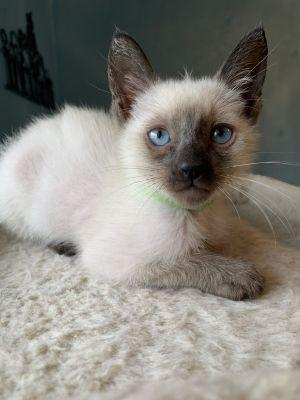siamese: (93, 16, 284, 216)
